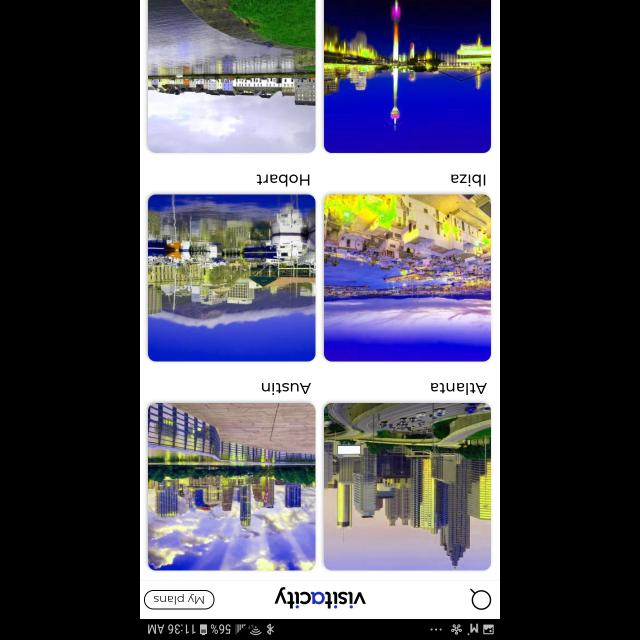icon: (469, 588, 491, 610)
image: (148, 402, 316, 570), (148, 195, 316, 362), (324, 402, 491, 570), (324, 195, 491, 362), (148, 0, 316, 153), (324, 0, 491, 153), (274, 586, 366, 608)
text: (262, 382, 310, 396), (430, 383, 486, 395), (256, 174, 310, 186), (450, 174, 486, 186)
textbutton: (143, 589, 214, 609)
uppertaskbar: (140, 618, 500, 640)
